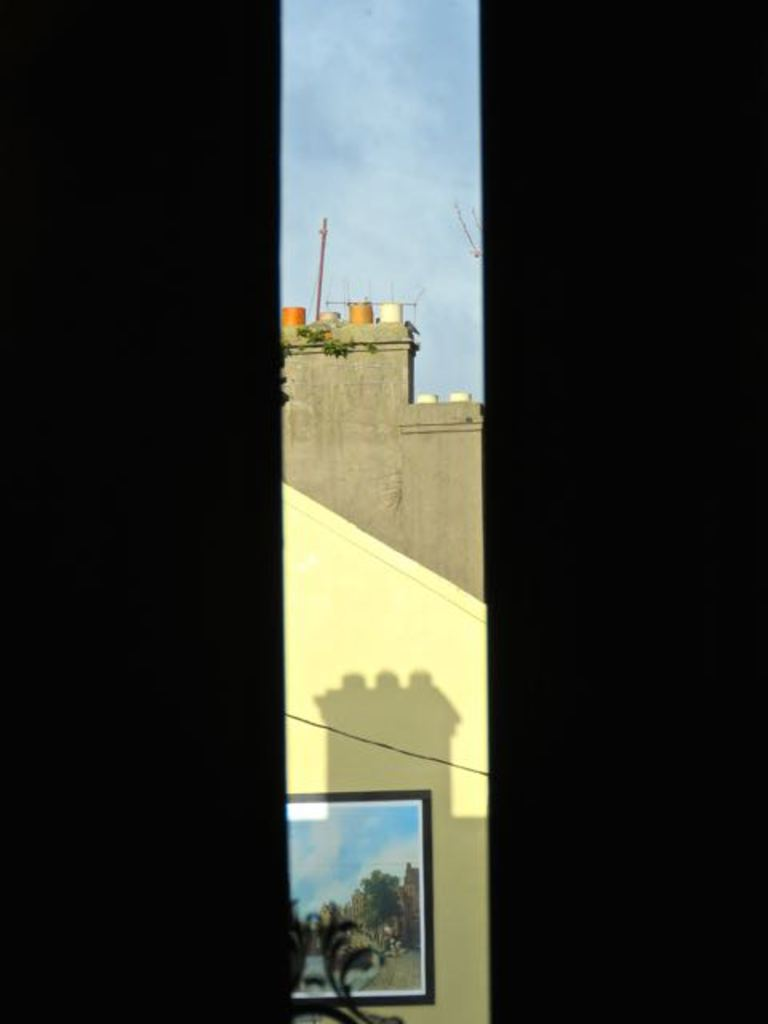Tree: (360, 860, 409, 948)
